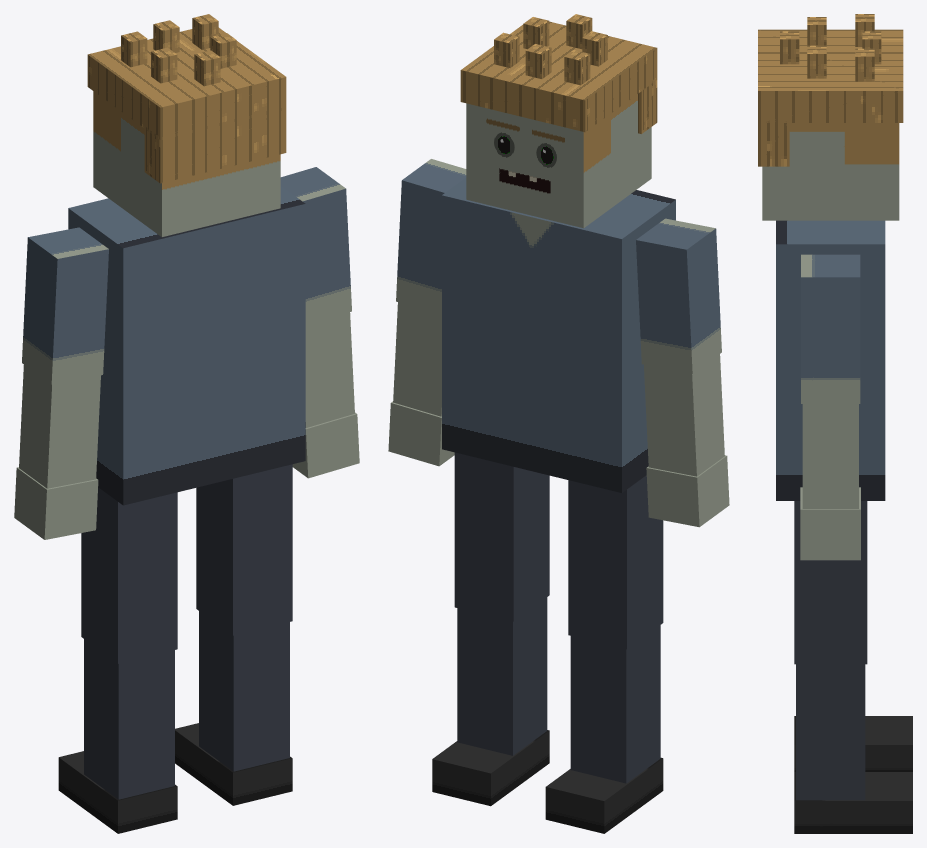
File: hair_spiky.glb
The picture shows the model from 3 angles, left to right: view 1: azimuth 30°, elevation 25°; view 2: azimuth 150°, elevation 25°; view 3: azimuth 270°, elevation 25°; orthographic projection.
Parts seen in each view (by area): view 1: block_torso, block_thigh.L, block_thigh.R, block_head, block_shin.L, block_shin.R, block_hair-cap, block_upper_arm.L, block_forearm.L, block_upper_arm.R, block_hair-back, block_forearm.R (+5 smaller); view 2: block_torso, block_head, block_thigh.L, block_thigh.R, block_shin.L, block_shin.R, block_upper_arm.L, block_hair-cap, block_forearm.L, block_upper_arm.R, block_foot.L, block_foot.R (+5 smaller); view 3: block_torso, block_head, block_hair-cap, block_shin.R, block_upper_arm.R, block_thigh.R, block_forearm.R, block_foot.R, block_hair-spike (×6), block_hand.R, block_foot.L, block_hair-back.
Boxes of the visible parts, x1,y1,x2,y2 form: block_torso: [68, 186, 305, 505]; block_thigh.L: [81, 487, 177, 663]; block_thigh.R: [196, 464, 292, 635]; block_head: [93, 91, 280, 236]; block_shin.L: [84, 639, 174, 799]; block_shin.R: [199, 611, 289, 771]; block_hair-cap: [87, 27, 286, 139]; block_upper_arm.L: [22, 227, 108, 384]; block_forearm.L: [19, 365, 100, 488]; block_upper_arm.R: [280, 167, 351, 324]; block_hair-back: [144, 107, 286, 183]; block_forearm.R: [305, 312, 354, 427]; block_torso: [442, 177, 675, 492]; block_head: [466, 94, 651, 228]; block_thigh.L: [568, 475, 663, 649]; block_thigh.R: [454, 452, 549, 621]; block_shin.L: [570, 625, 660, 783]; block_shin.R: [457, 597, 547, 755]; block_upper_arm.L: [636, 218, 721, 373]; block_hair-cap: [460, 21, 657, 132]; block_forearm.L: [644, 354, 724, 476]; block_upper_arm.R: [396, 159, 466, 314]; block_foot.L: [545, 757, 663, 833]; block_foot.R: [432, 730, 549, 806]; block_torso: [776, 220, 885, 500]; block_head: [762, 123, 899, 220]; block_hair-cap: [758, 29, 903, 122]; block_shin.R: [796, 664, 865, 800]; block_upper_arm.R: [801, 254, 860, 403]; block_thigh.R: [794, 501, 867, 664]; block_forearm.R: [802, 404, 858, 508]; block_foot.R: [794, 772, 912, 833]; block_hair-spike (×6): [780, 14, 881, 81]; block_hand.R: [800, 487, 860, 560]; block_foot.L: [794, 716, 912, 771]; block_hair-back: [758, 120, 789, 166].
Size of the model in its own units: 0.7948 by 1.83 by 0.339.
1 material, 1 textured.
